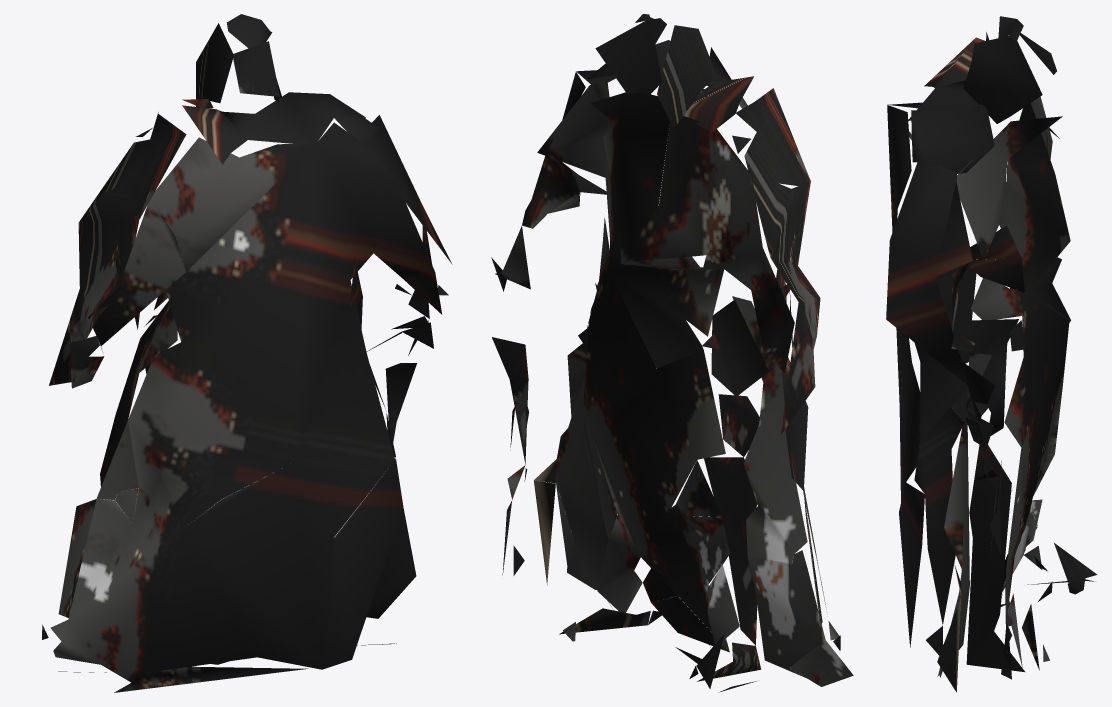
3 renders of one model, left to right at view 1: azimuth 30°, elevation 25°; view 2: azimuth 150°, elevation 25°; view 3: azimuth 270°, elevation 25°, orthographic. The views are drawn at different scales.
Visible parts, largest first — view 1: body.002; view 2: body.002; view 3: body.002.
Part boxes in pixels (<box>): body.002: <box>42,14,452,692</box>; body.002: <box>491,14,853,692</box>; body.002: <box>886,16,1097,692</box>.
Size of the model in its own units: 1.33 by 1.99 by 0.6305.
1 material, 1 textured.
